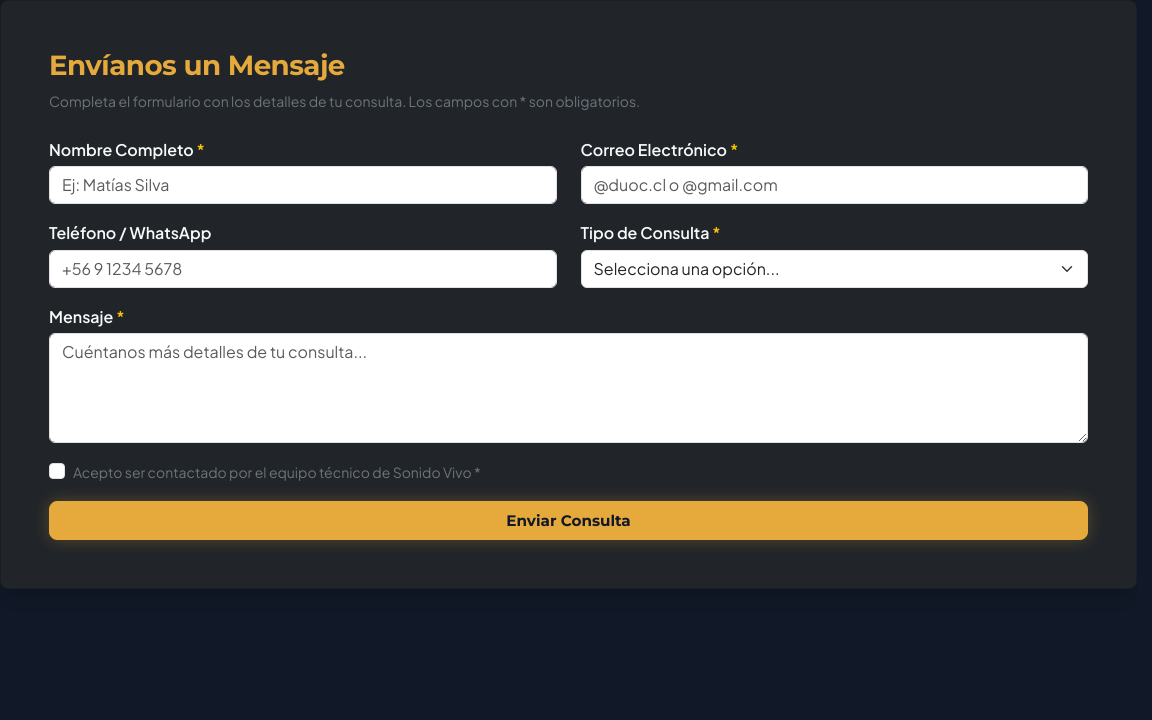
Scenario: Formulario de contacto › confirma el envío simulado y limpia los campos con datos válidos
Step 1. Type "Matías Silva" into the field with placeholder "Ej: Matías Silva" → (303, 185), box [49,166,556,204]
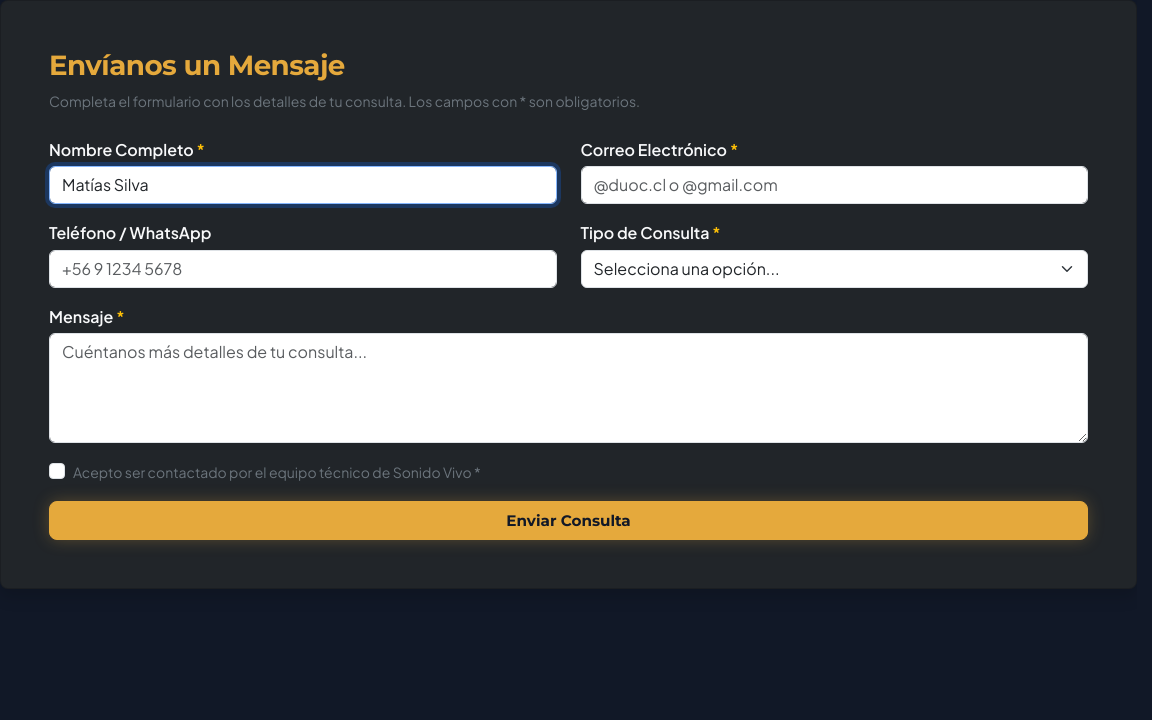
Step 2. Type "matias@gmail.com" into the field with placeholder "@duoc.cl o @gmail.com" → (834, 185), box [580,166,1088,204]
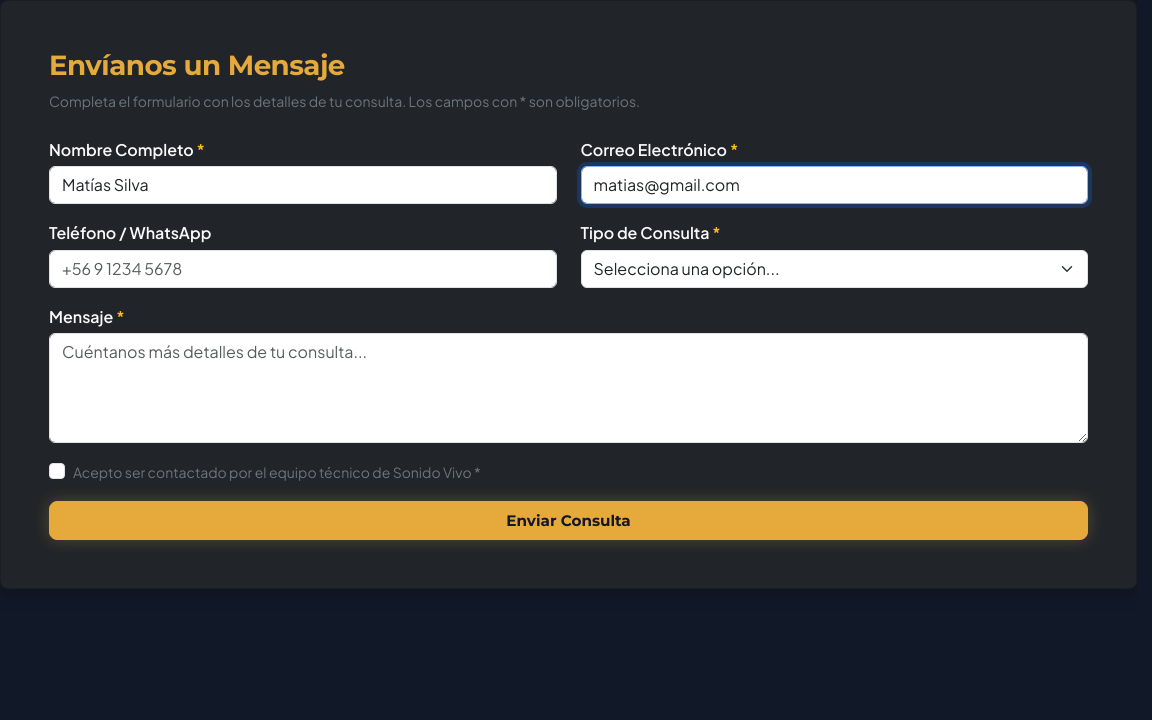
Step 3. Select "Consulta General" in the dropdown → (834, 269), box [580,250,1088,288]
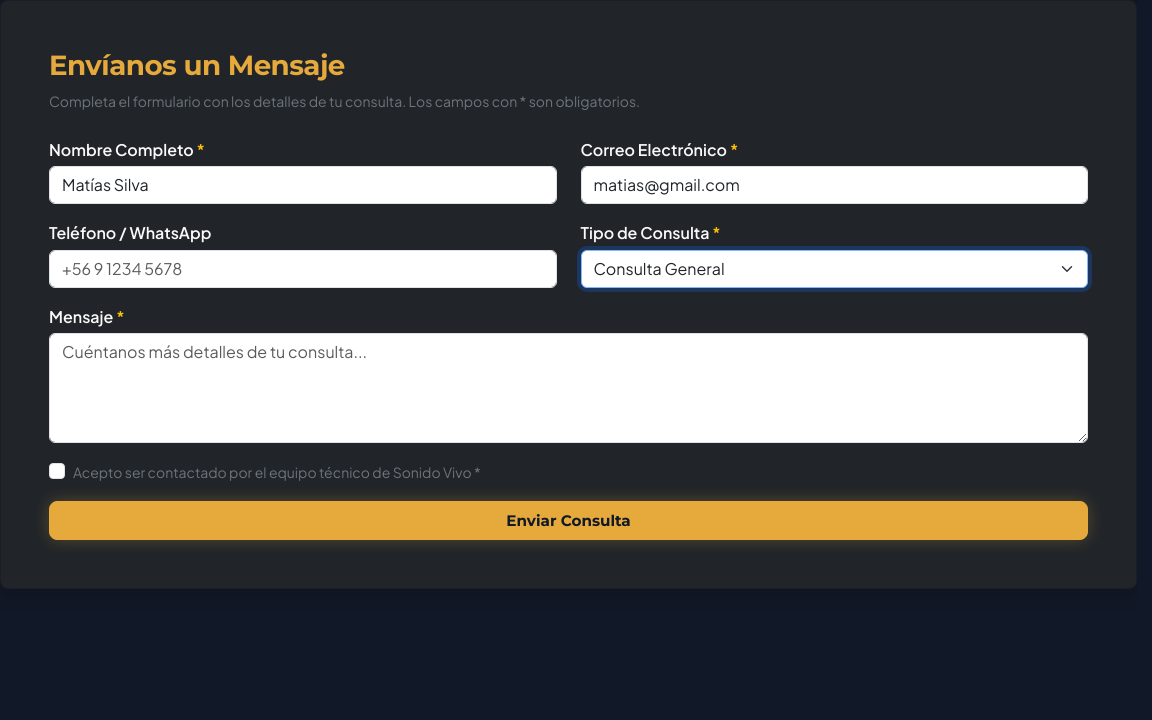
Step 4. Type "Quisiera consultar por una guitarra acústica." into the text box with placeholder "Cuéntanos más detalles de tu consulta..." → (568, 388), box [49,333,1088,443]
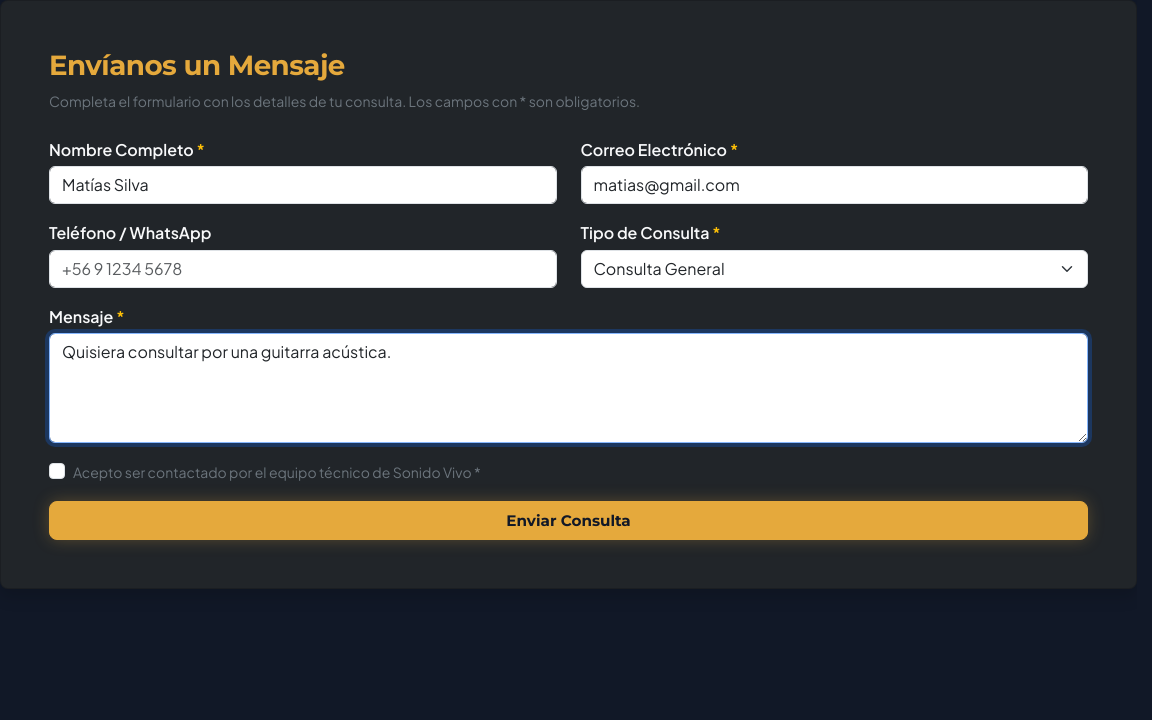
Step 5. Click the checkbox labelled "Acepto ser contactado por el equipo técnico de Sonido Vivo *" → (57, 471), box [49,463,65,479]
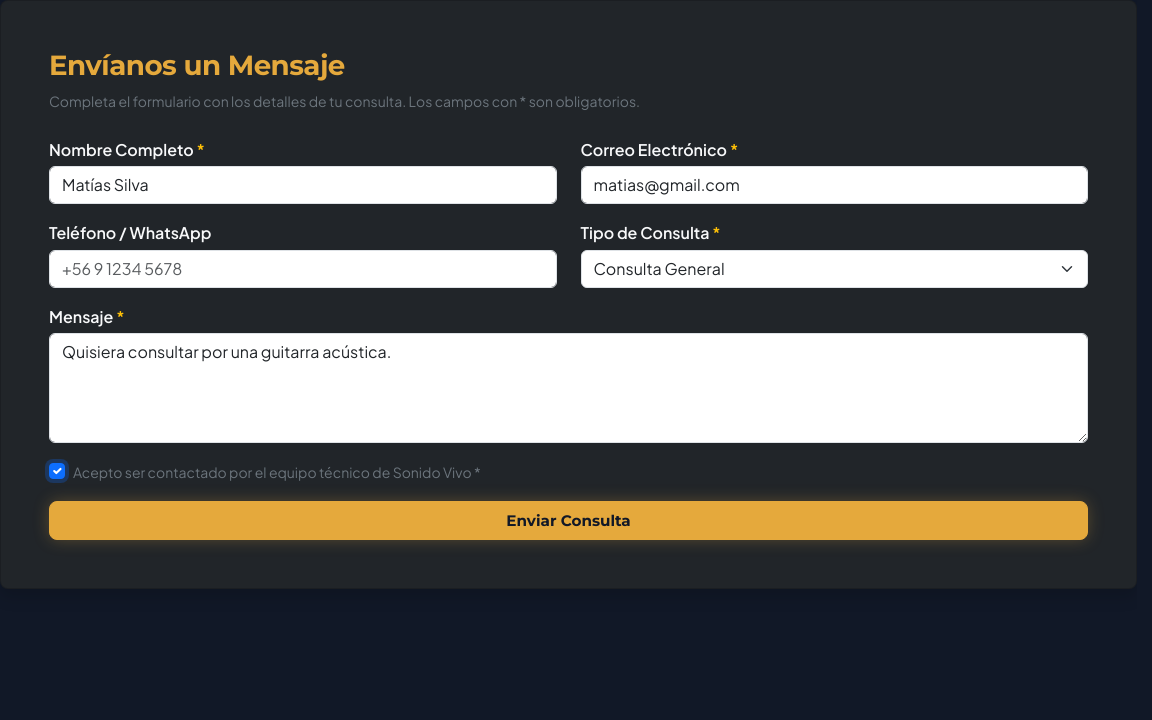
Step 6. Click the button "Enviar Consulta" → (568, 521), box [49,501,1088,540]
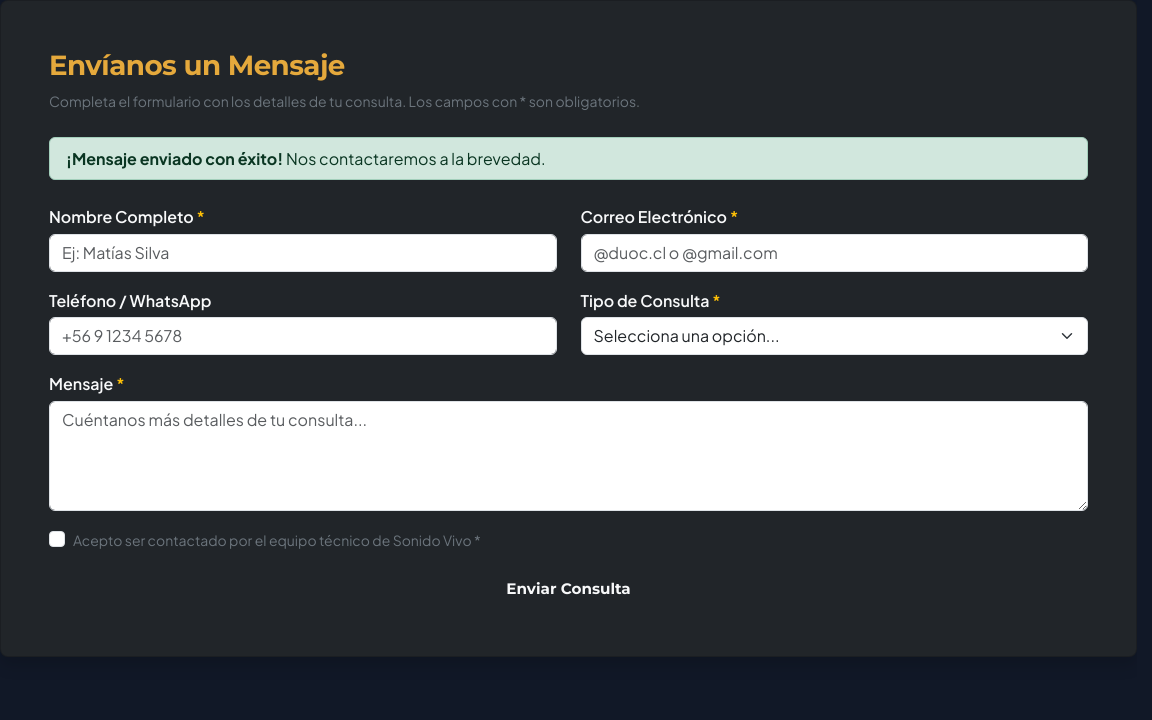
Now the message shows "¡Mensaje enviado con éxito!", box [66,148,283,169]
Now the field with placeholder "Ej: Matías Silva" is empty, box [49,234,556,272]
Now the field with placeholder "@duoc.cl o @gmail.com" is empty, box [580,234,1088,272]
